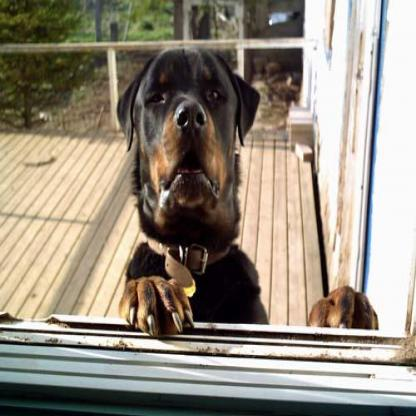Rottweiler: (115, 44, 379, 334)
